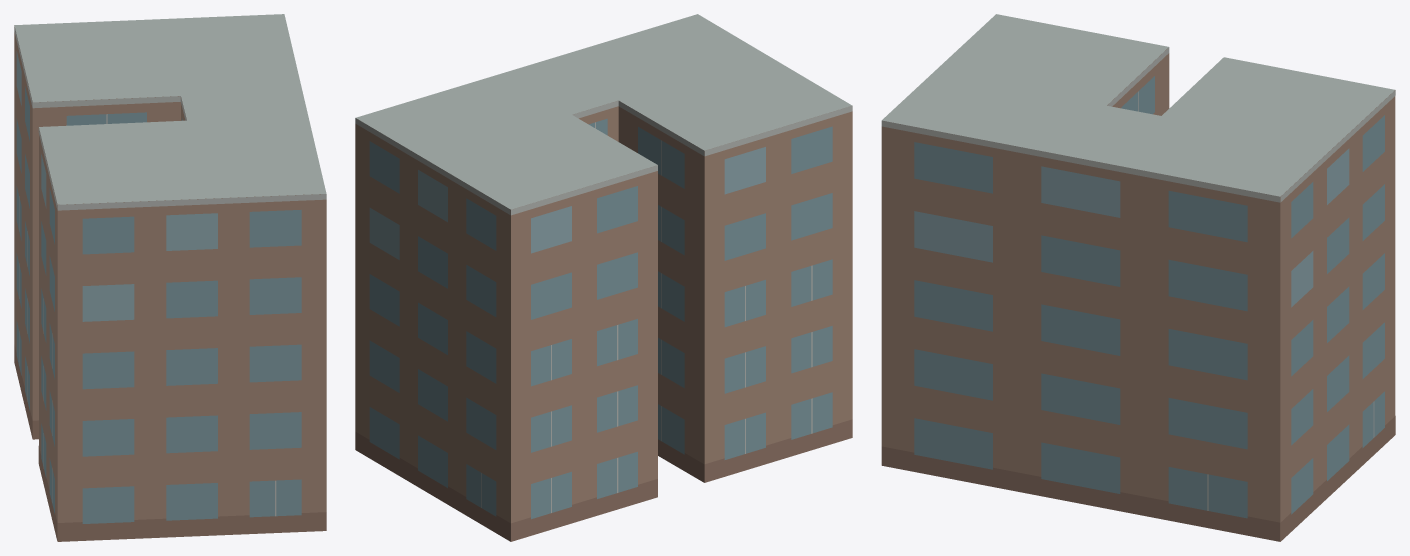
File: survey-upis-32551093.glb
The picture shows the model from 3 angles, left to right: view 1: azimuth 30°, elevation 25°; view 2: azimuth 150°, elevation 25°; view 3: azimuth 270°, elevation 25°; orthographic projection. The views are drawn at different scales.
Parts seen in each view (by area): view 1: survey-upis-32551093.tmp; view 2: survey-upis-32551093.tmp; view 3: survey-upis-32551093.tmp.
Part boxes in pixels (box(x1,y1,x2,y2)): survey-upis-32551093.tmp: box(14, 14, 326, 541); survey-upis-32551093.tmp: box(355, 14, 852, 541); survey-upis-32551093.tmp: box(881, 14, 1395, 541).
Bounding box in the file's own units: 16.02 × 14.1 × 19.03.
